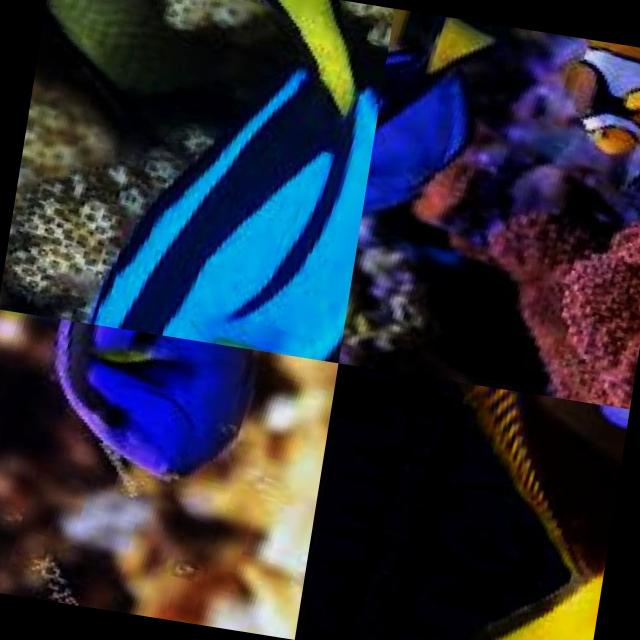BlueTang: (11, 0, 394, 362), (325, 367, 630, 640), (0, 311, 324, 527), (353, 8, 537, 292)
